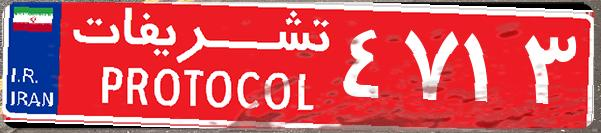1: (460, 20, 520, 115)
3: (520, 20, 580, 115)
4: (340, 20, 400, 115)
7: (400, 20, 460, 115)
تشریفات: (60, 8, 340, 125)
